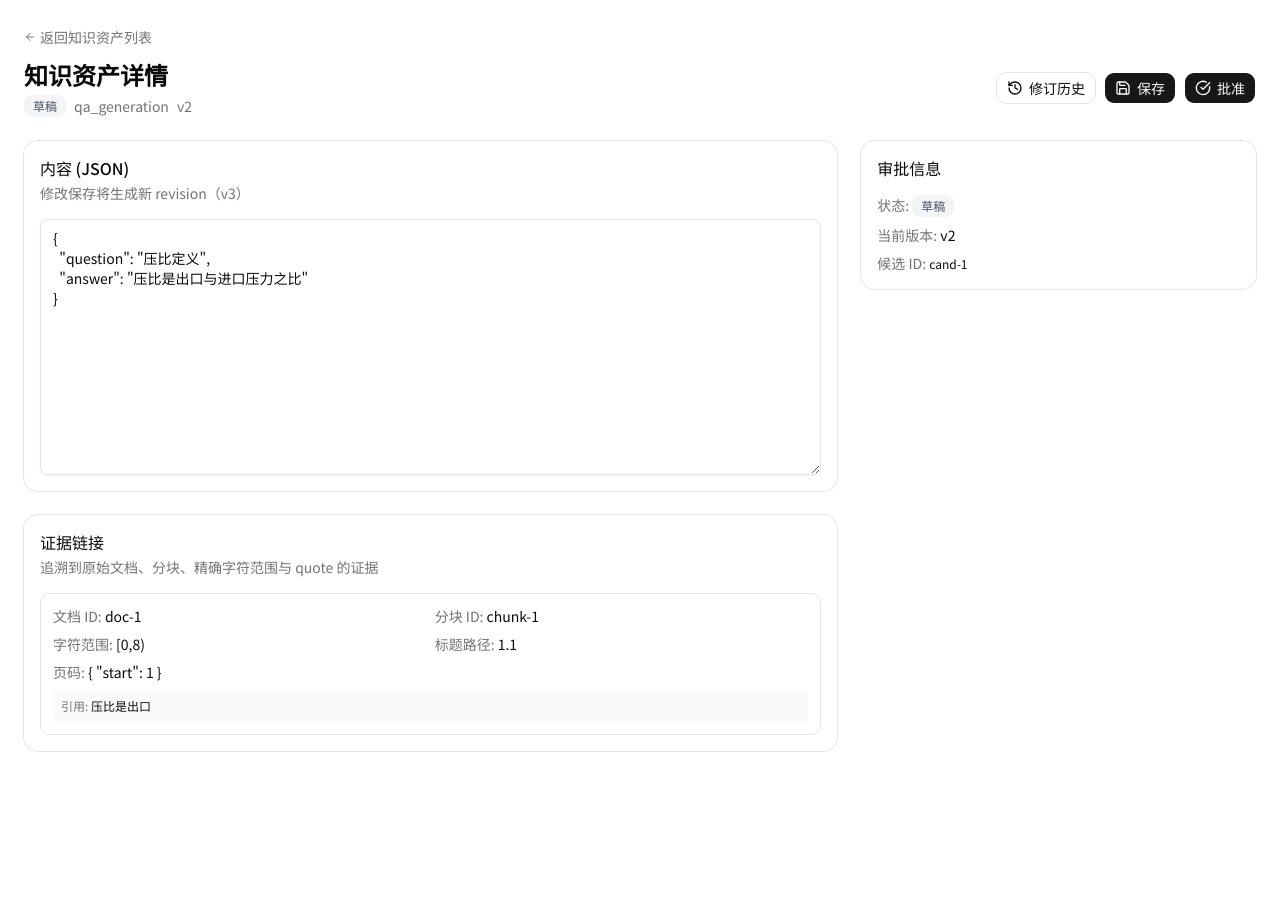
Test case: CuratedItem 详情页 › reviewer 可见批准按钮；PATCH 携带 expected_revision；409 冲突保留草稿并显示服务端版本
The width and height of the screenshot is (1280, 900).
Expected: the text box "压比是出口" is shown, [40,219,821,475]
# 保存（draft 可编辑）
What coordinates should you click on to do the following:
click the button "保存"
I would click on:
 (1140, 88)
Its box is [1104,72,1176,104].
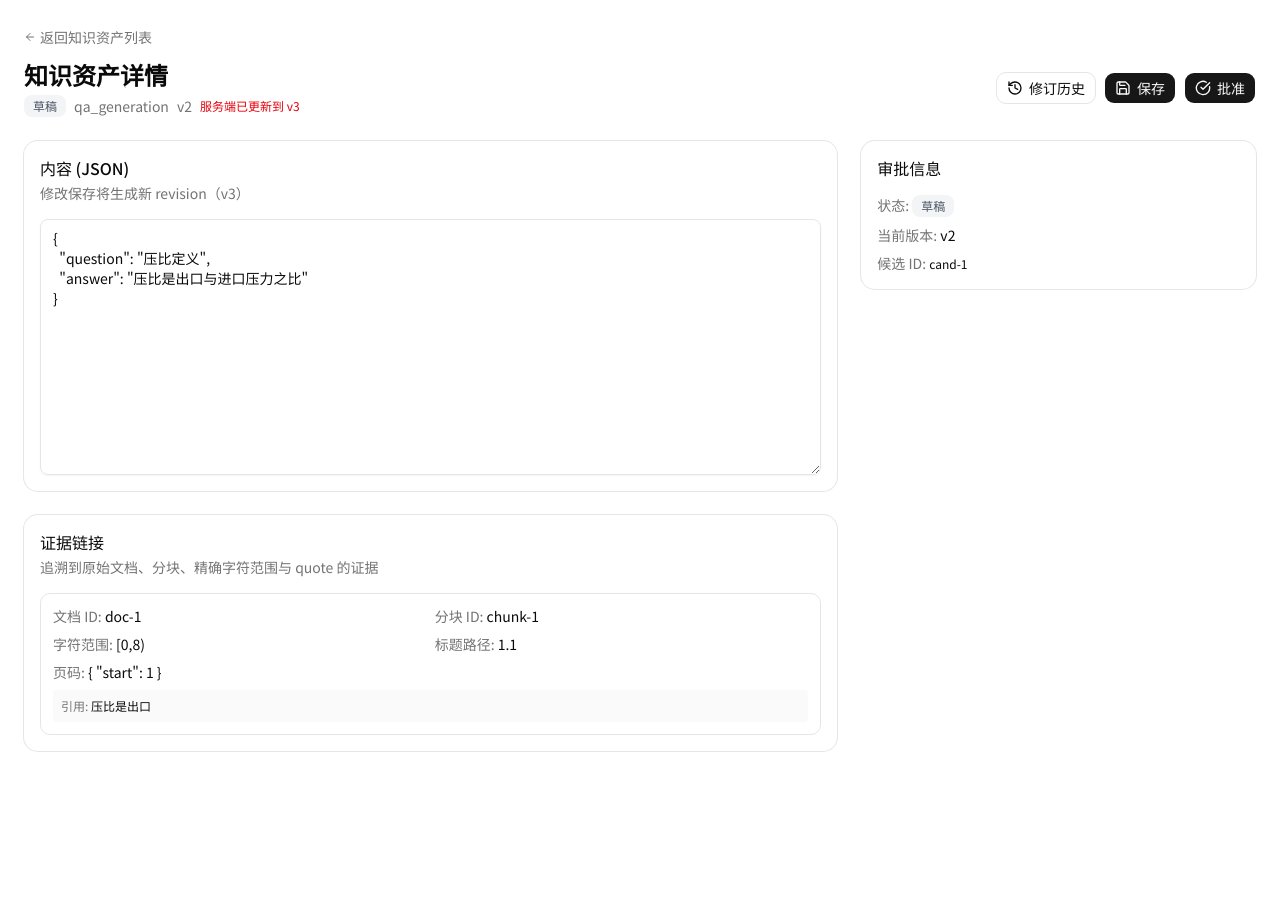
Now the text "服务端已更新到 v3" is shown, box [200,98,300,114]
